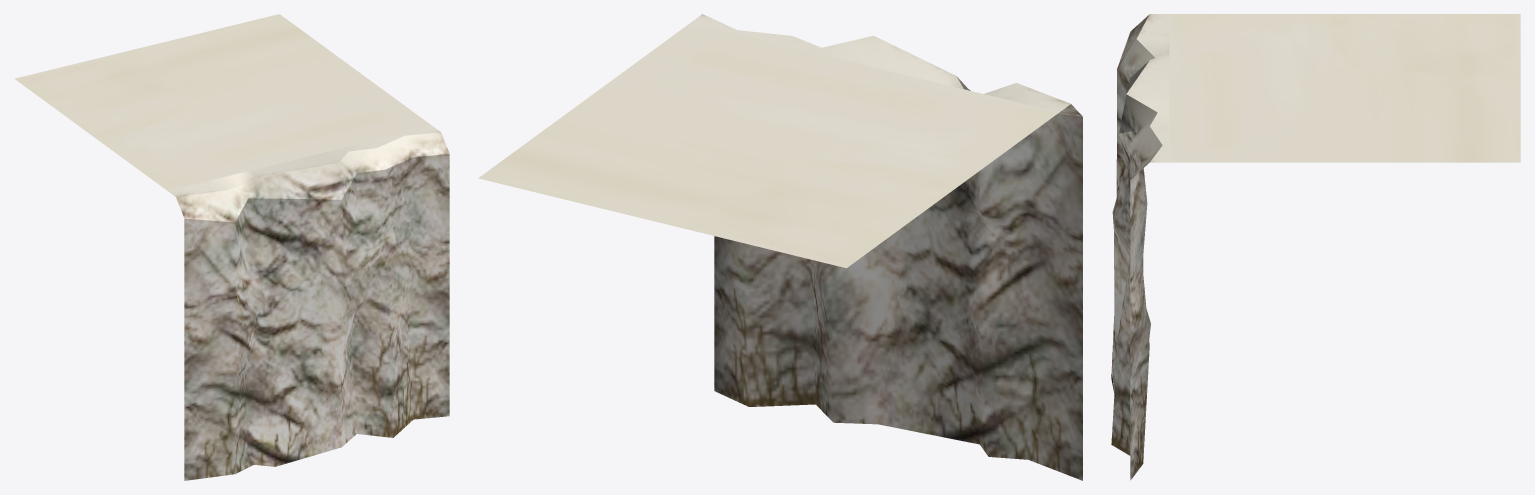
File: TDBlock2.fbx
3 renders of one model, left to right at view 1: azimuth 30°, elevation 25°; view 2: azimuth 150°, elevation 25°; view 3: azimuth 270°, elevation 25°, orthographic. The views are drawn at different scales.
Parts seen in each view (by area): view 1: pCube24; view 2: pCube24; view 3: pCube24.
Boxes of the visible parts, x1,y1,x2,y2 form: pCube24: [14, 14, 449, 480]; pCube24: [478, 14, 1082, 480]; pCube24: [1111, 14, 1520, 480].
Size of the model in its own units: 21.48 by 21.82 by 25.03.
